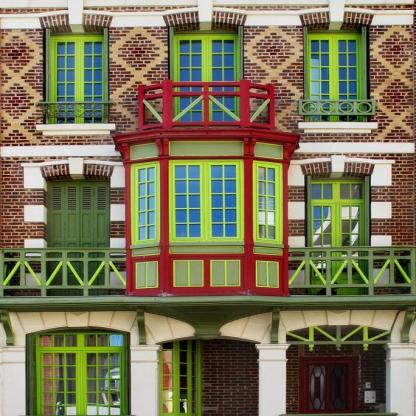Blind: (47, 180, 109, 297)
Building Outline: (0, 0, 416, 416)
Door: (174, 35, 238, 123), (312, 203, 364, 295), (298, 357, 357, 416)
Door Hole: (304, 171, 373, 295), (42, 174, 111, 298), (167, 21, 243, 123)
Facade: (0, 0, 416, 416)
Floor: (1, 144, 415, 297), (1, 0, 415, 136)
Floor Slab: (0, 297, 415, 305), (1, 136, 415, 144)
Ground Floor: (0, 304, 415, 416)
Pillar: (381, 343, 416, 416), (255, 344, 290, 416), (130, 345, 163, 415), (0, 346, 26, 416)
Sill: (35, 124, 115, 135), (299, 123, 378, 133), (254, 242, 284, 249), (130, 242, 159, 249)
Window: (39, 350, 123, 416), (171, 163, 241, 239), (49, 35, 104, 123), (308, 35, 362, 122), (159, 339, 197, 416), (254, 162, 280, 242), (134, 163, 158, 244), (39, 334, 78, 348), (85, 334, 123, 348), (312, 183, 333, 199), (341, 183, 361, 199)
Window Hole: (25, 326, 131, 416), (302, 21, 371, 123), (42, 24, 109, 124)
